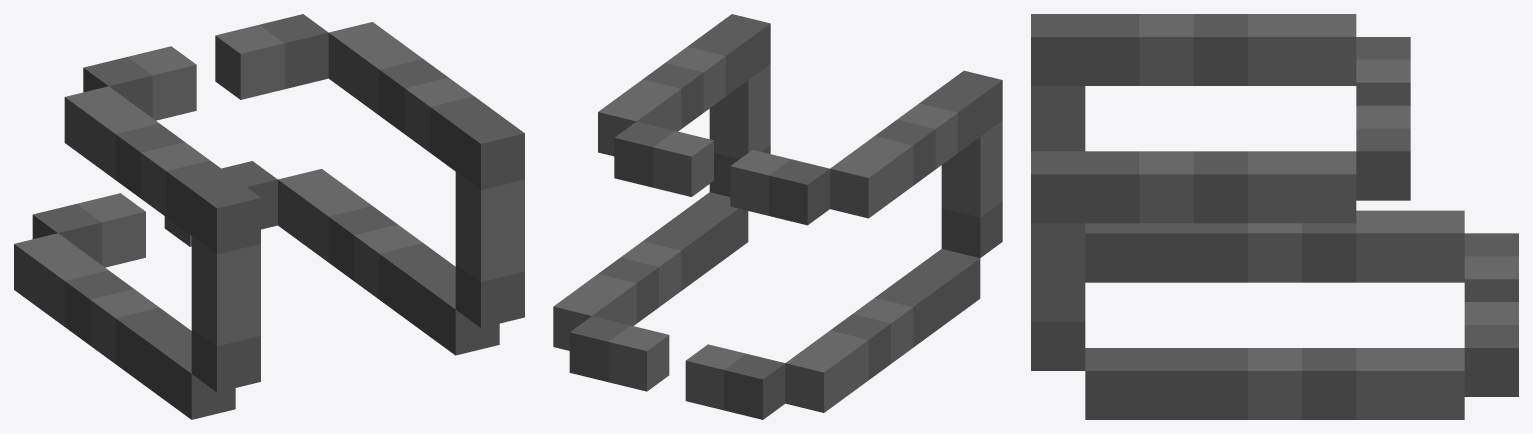
File: Extra-1-MeteorSlicer_Armature.obj
The picture shows the model from 3 angles, left to right: view 1: azimuth 30°, elevation 25°; view 2: azimuth 150°, elevation 25°; view 3: azimuth 270°, elevation 25°; orthographic projection. The views are drawn at different scales.
Visible parts, largest first — view 1: MeteorSlicer_Armature; view 2: MeteorSlicer_Armature; view 3: MeteorSlicer_Armature.
Boxes of the visible parts, x1,y1,x2,y2 form: MeteorSlicer_Armature: (14, 14, 524, 419); MeteorSlicer_Armature: (553, 14, 1002, 419); MeteorSlicer_Armature: (1031, 14, 1518, 419).
Size of the model in its own units: 0.7 by 0.5 by 0.9.
1 material, 1 textured.
